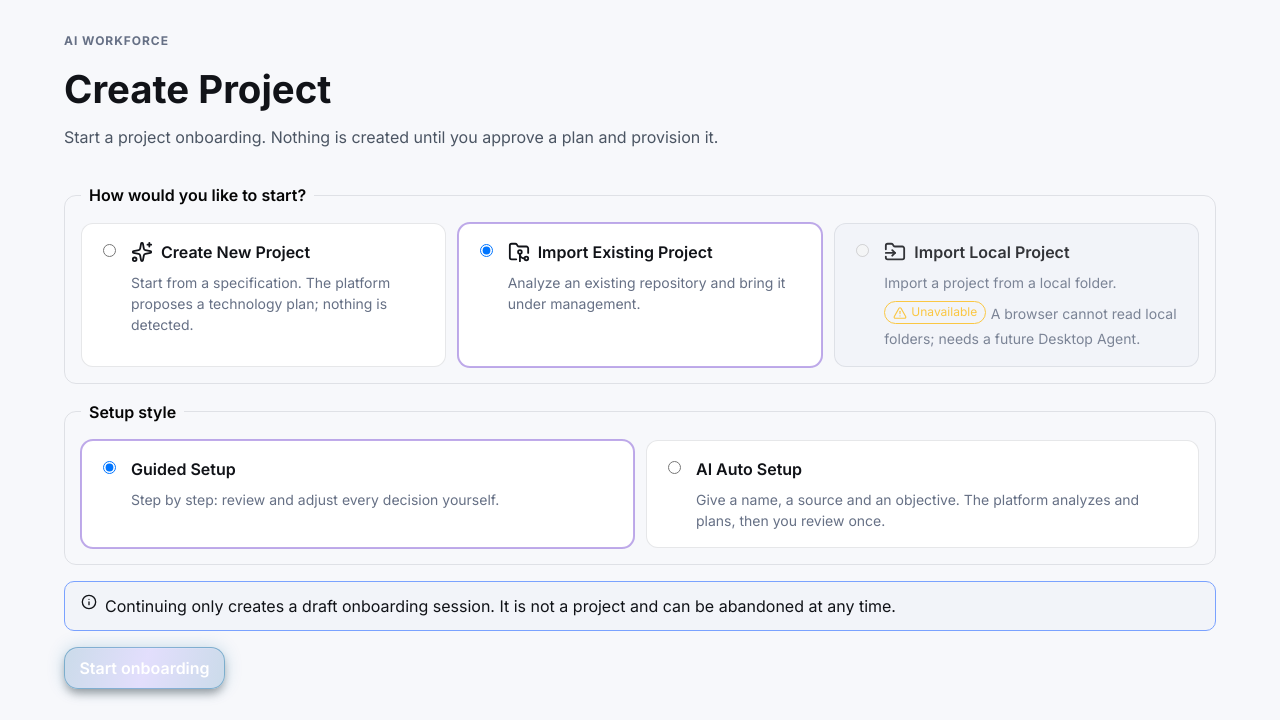
Test: Entry screen › shows a forbidden command error
This screenshot has width=1280, height=720.
What coordinates should you click on to do the following:
click the button "Start onboarding"
I would click on:
 (144, 668)
Its box is [64, 647, 225, 689].
(page scrolled)
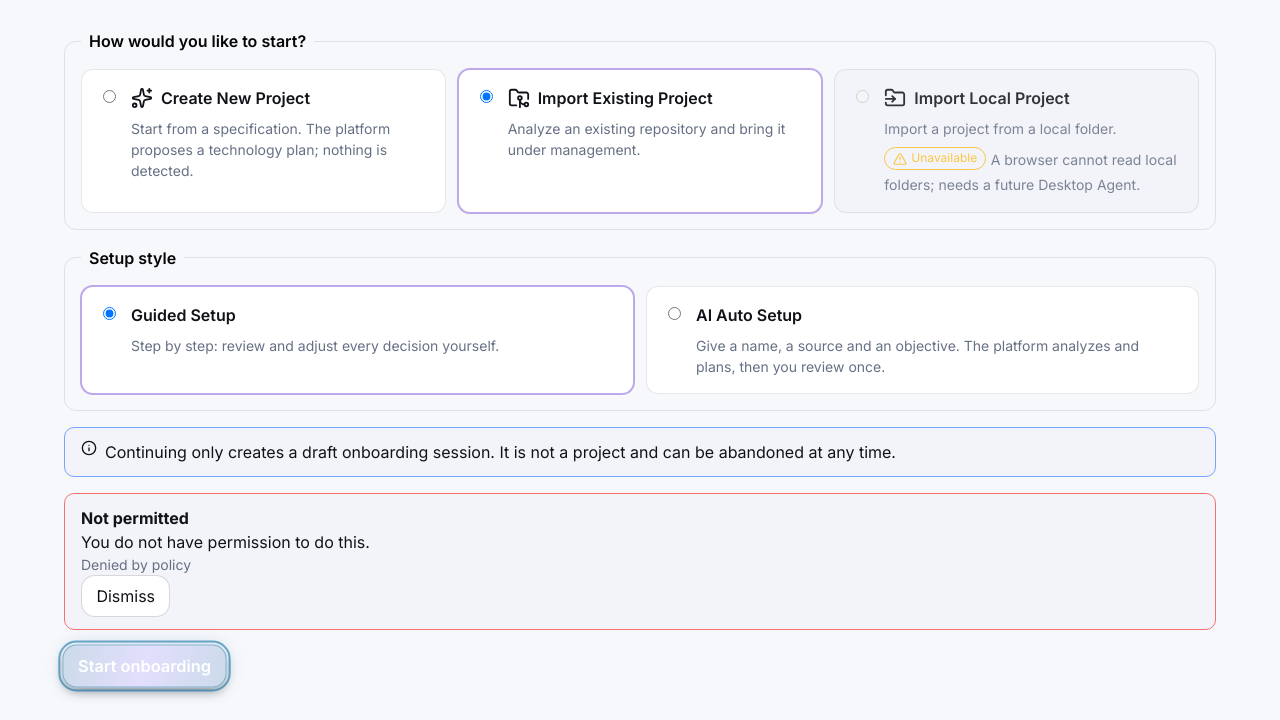
Expected: the text "Not permitted" is shown, [81, 508, 189, 528]
Expected: the text "Denied by policy" is shown, [81, 556, 191, 573]
